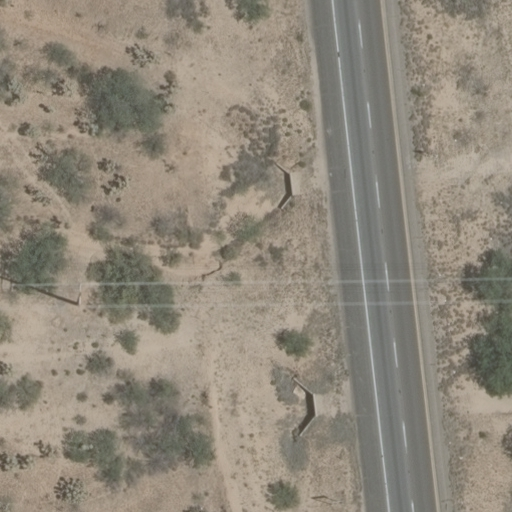DT: (69, 274, 93, 315)
